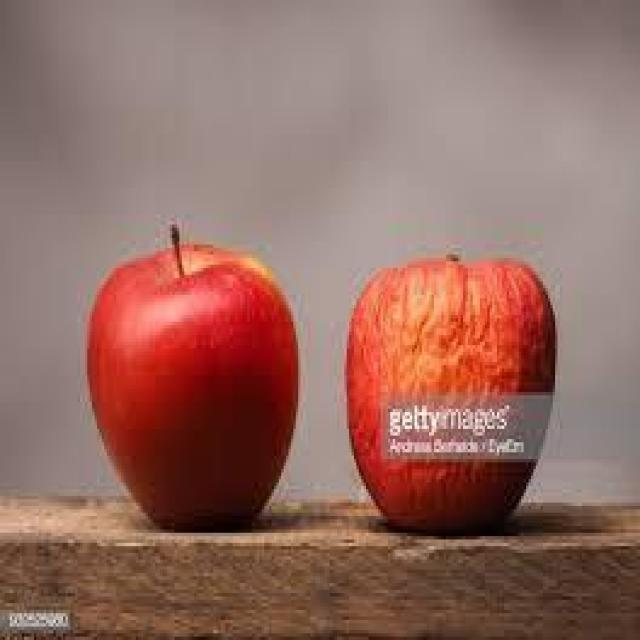maca: (84, 221, 300, 530), (342, 248, 558, 529)
